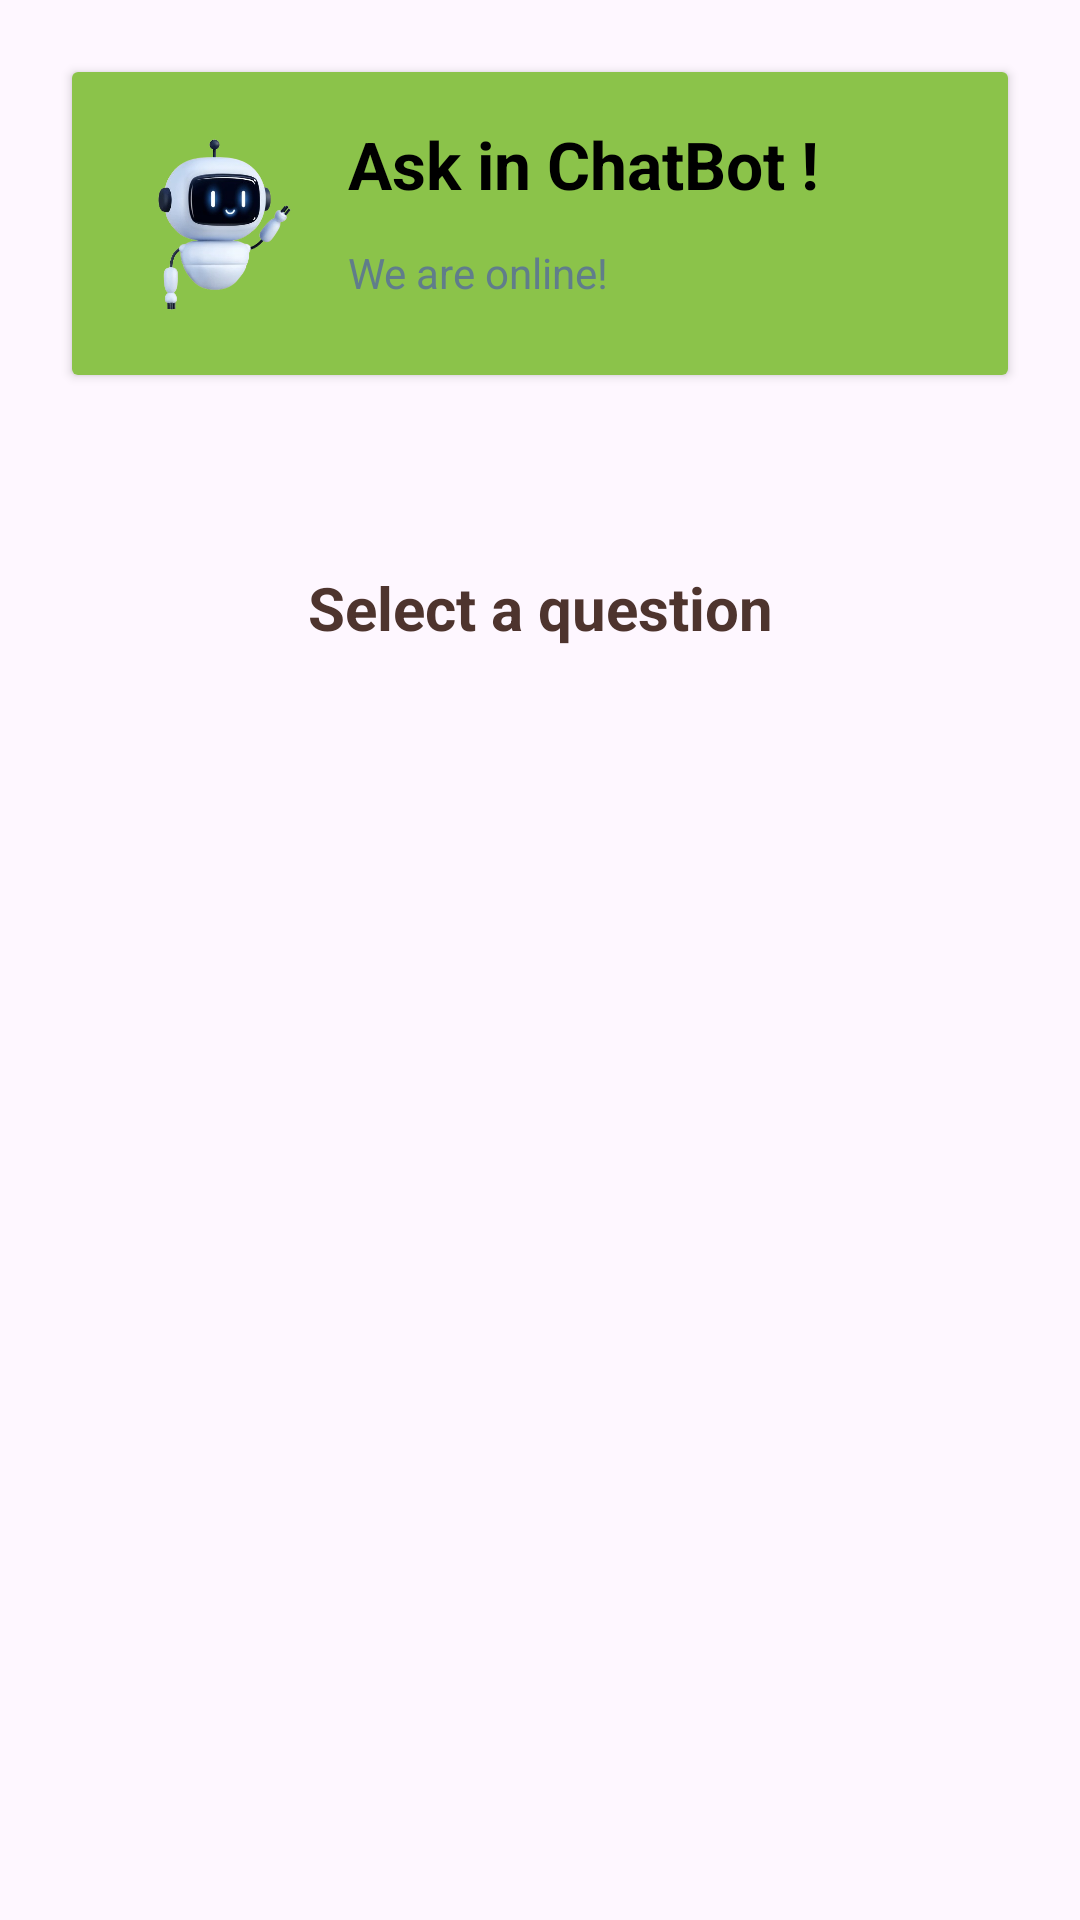

Screen size 1080 × 1920. Icon name, then its box in pixels as (left=x1, top=y1, right=x2, bottom=y2):
Profile Image: (left=158, top=139, right=291, bottom=310)
